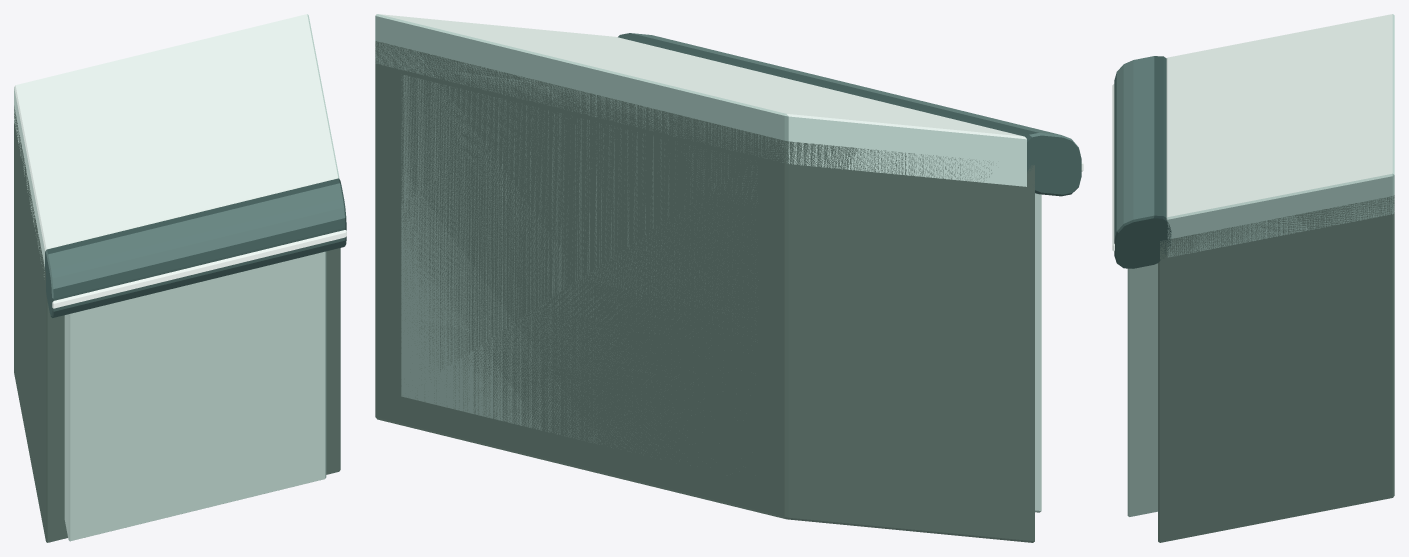
File: Terrain_TopRun1.gltf
The picture shows the model from 3 angles, left to right: view 1: azimuth 30°, elevation 25°; view 2: azimuth 150°, elevation 25°; view 3: azimuth 270°, elevation 25°; orthographic projection. The views are drawn at different scales.
Visible parts, largest first — view 1: Terrain_TopRun1_baked; view 2: Terrain_TopRun1_baked; view 3: Terrain_TopRun1_baked.
Boxes of the visible parts, x1,y1,x2,y2 form: Terrain_TopRun1_baked: (14, 14, 346, 542); Terrain_TopRun1_baked: (375, 14, 1083, 542); Terrain_TopRun1_baked: (1112, 14, 1394, 542).
Bounding box in the file's own units: 1.29 × 1.18 × 0.74.
